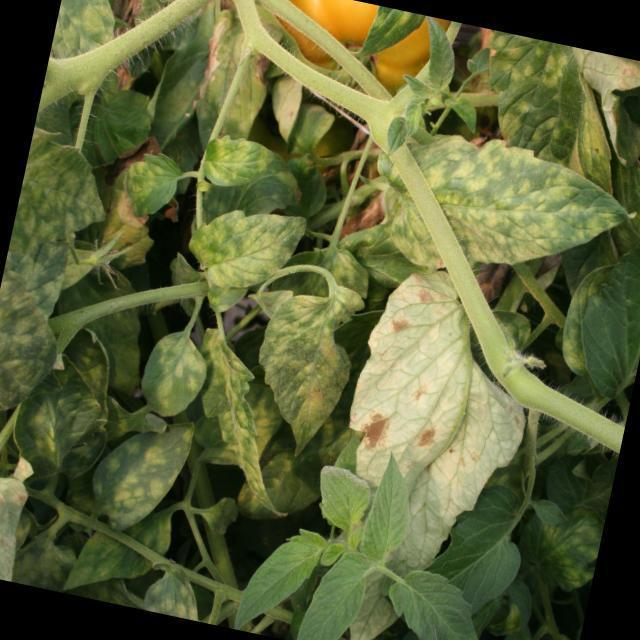Healthy Leaf: (224, 518, 324, 640), (376, 564, 506, 640), (357, 456, 415, 564), (302, 463, 374, 538), (299, 559, 365, 640)
Mosaic Virus: (362, 132, 634, 304), (0, 138, 98, 413), (182, 328, 306, 508), (352, 272, 467, 462), (10, 310, 119, 476), (474, 31, 596, 162), (182, 192, 310, 302), (88, 418, 192, 534), (61, 512, 172, 612), (189, 124, 283, 202), (136, 330, 210, 422), (50, 0, 122, 63), (116, 152, 180, 222), (140, 558, 210, 621), (358, 3, 424, 62)
